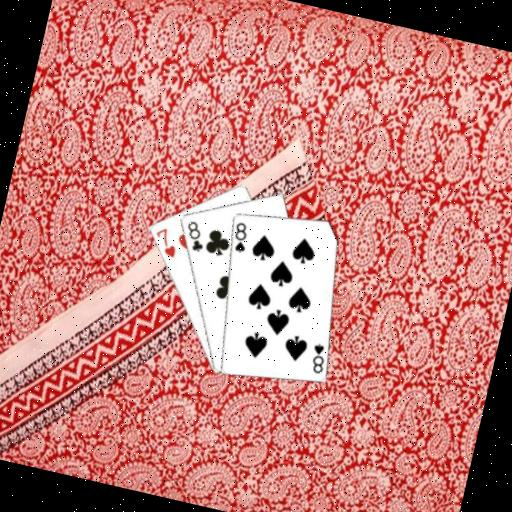7H: (148, 223, 182, 260)
8C: (179, 217, 210, 255)
8S: (227, 218, 252, 255), (306, 339, 331, 376)
